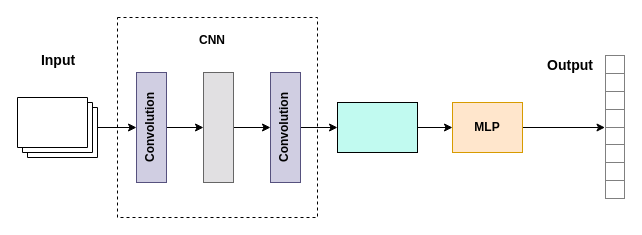
This 642x235 diagram has some shape labels left out. The shapes that lost their labels are listed below. From the top down, each one's centre as x and y in pixels, then its label:
pixel 218 127: Average Pooling
pixel 377 127: seq2seq ConvLSTM
